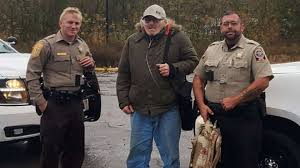Bad: (26, 3, 192, 168), (116, 2, 275, 167)
